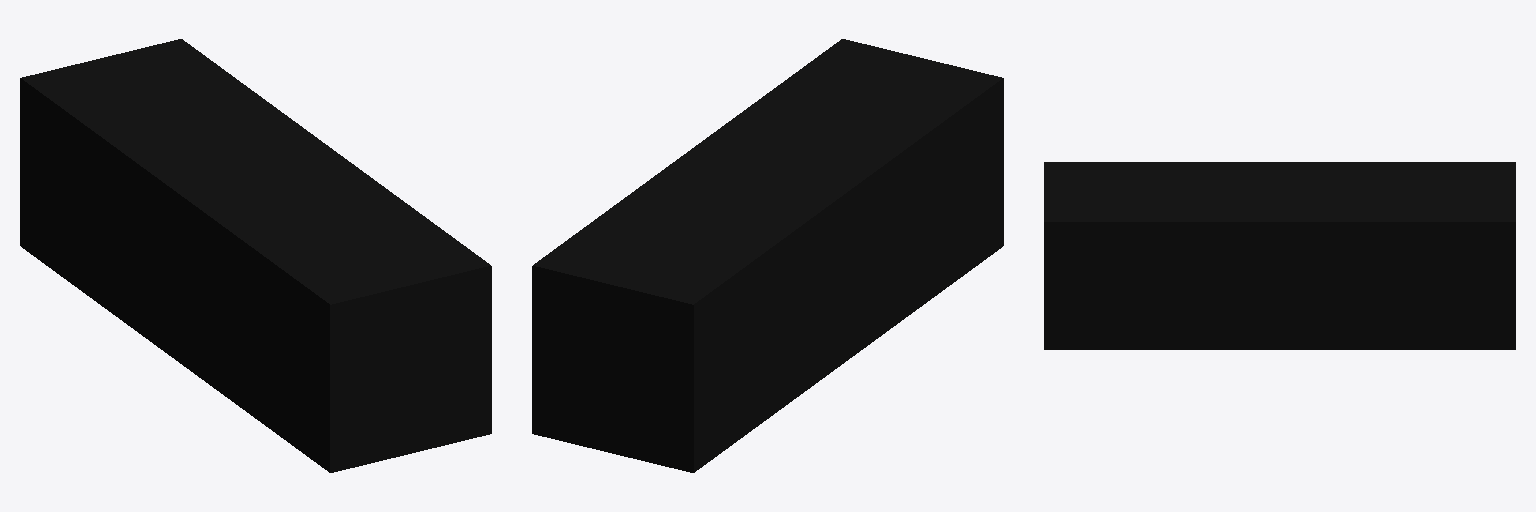
The robot description file, URDF, robot "block_male":
<robot name="block_male">
  <link name = "block_body">
    <visual>
      <geometry>
        <box size="0.3 1 0.3"/>
      </geometry>
      <material name="grey">
        <color rgba="0.1 0.1 0.1 1"/>
      </material>
    </visual>
    <collision>
      <geometry>
        <box size="0.3 1 0.3"/>
      </geometry>
    </collision>
    <inertial>
      <!-- <origin xyz="1 1 1" rpy="0 0 0" /> -->
      <mass value="0.25"/>
      <inertia ixx="0.4" ixy="0.0" ixz="0.0" iyy="0.4" iyz="0.0" izz="0.2"/>
    </inertial>
    <contact>
      <lateral_friction value="1.0"/>
      <rolling_friction value="0.0"/>
      <contact_cfm value="0.0"/>
      <contact_erp value="1.0"/>
    </contact>
  </link>
</robot>

--- Facts derived from the render (not from the file) ---
The picture shows the robot from 3 angles, left to right: view 1: azimuth 30°, elevation 25°; view 2: azimuth 150°, elevation 25°; view 3: azimuth 270°, elevation 25°; orthographic projection.
Model block_male with 1 links and 0 joints (none), rooted at block_body, posed all joints at 0.
Visible links, largest first — view 1: block_body; view 2: block_body; view 3: block_body.
Boxes of the visible links, box(x1,y1,x2,y2) form: block_body: box(20, 39, 491, 472); block_body: box(532, 39, 1003, 472); block_body: box(1044, 162, 1515, 349).
Bounding box of the posed robot: 0.3 × 1 × 0.3 m (x, y, z).
Geometry: primitives only (box / cylinder / sphere), no mesh files.